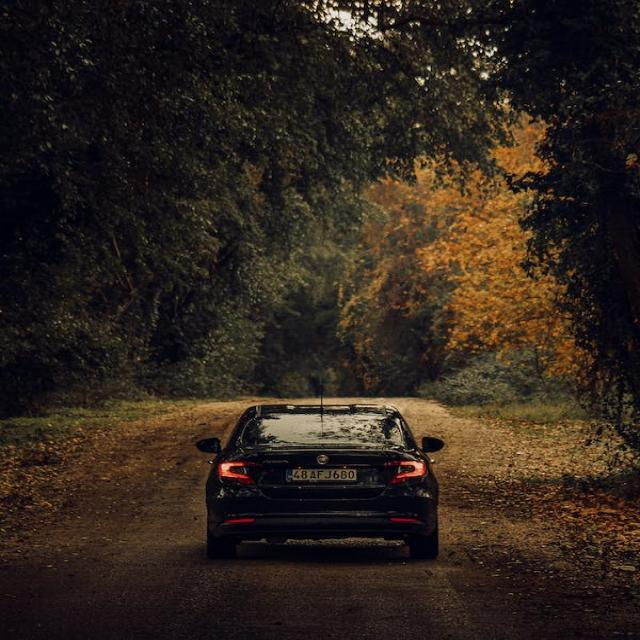yolov7-seg-car: (195, 374, 444, 559)
